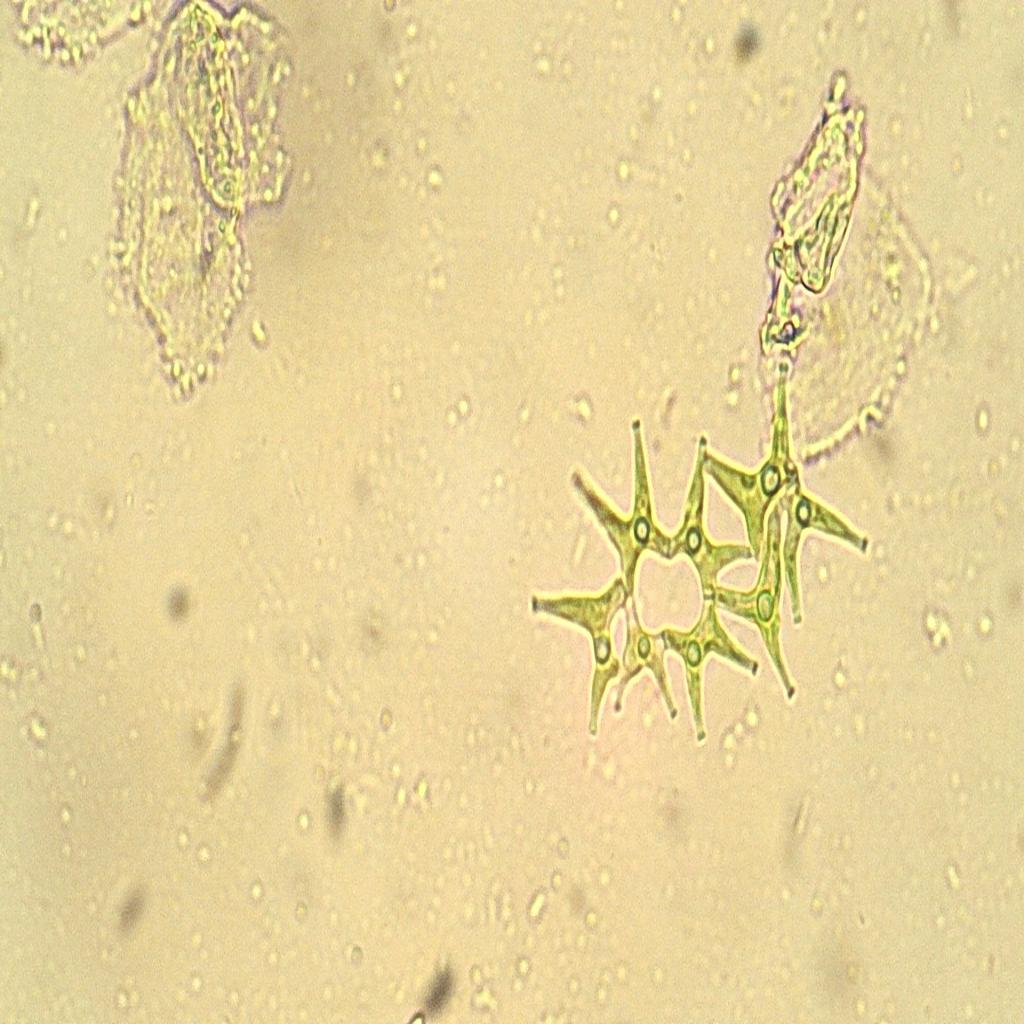Pediastrum_1TH: (507, 351, 901, 754)
